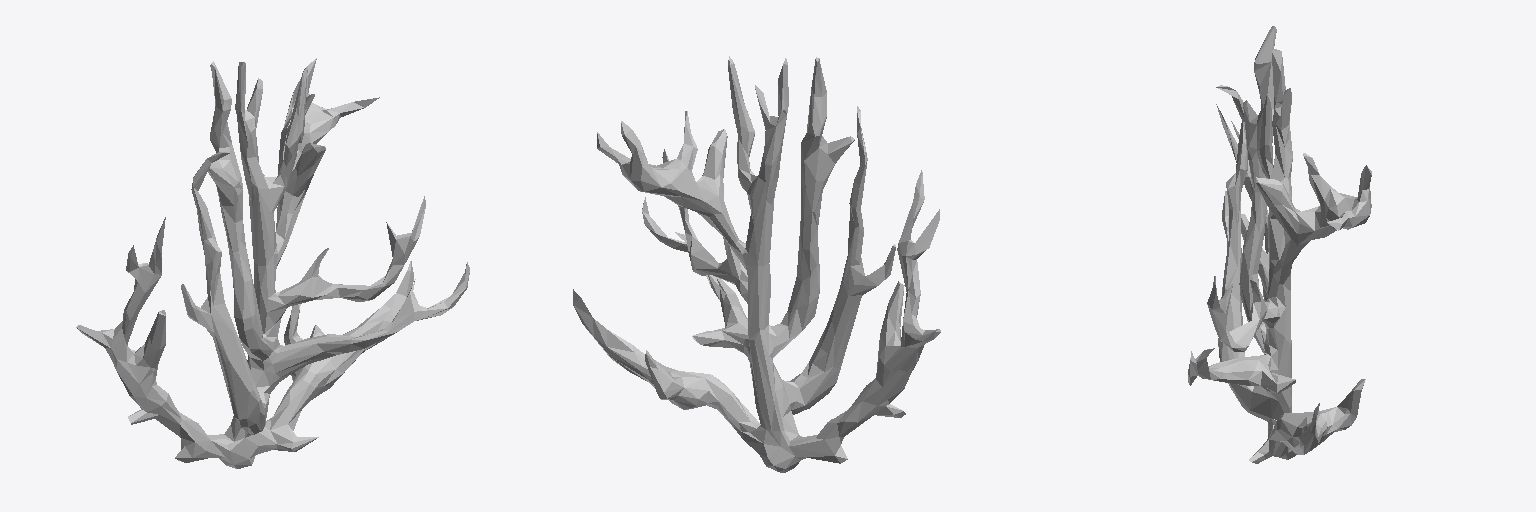
File: Coral_Branch_2.obj
The picture shows the model from 3 angles: view 1: azimuth 30°, elevation 25°; view 2: azimuth 150°, elevation 25°; view 3: azimuth 270°, elevation 25°; orthographic projection.
Visible parts, largest first — view 1: pCube13; view 2: pCube13; view 3: pCube13.
Part boxes in pixels (x1,y1,x2,y2): pCube13: (76,58,469,468); pCube13: (573,56,940,472); pCube13: (1188,26,1371,463).
Bounding box in the file's own units: 3.77 × 4.25 × 1.71.